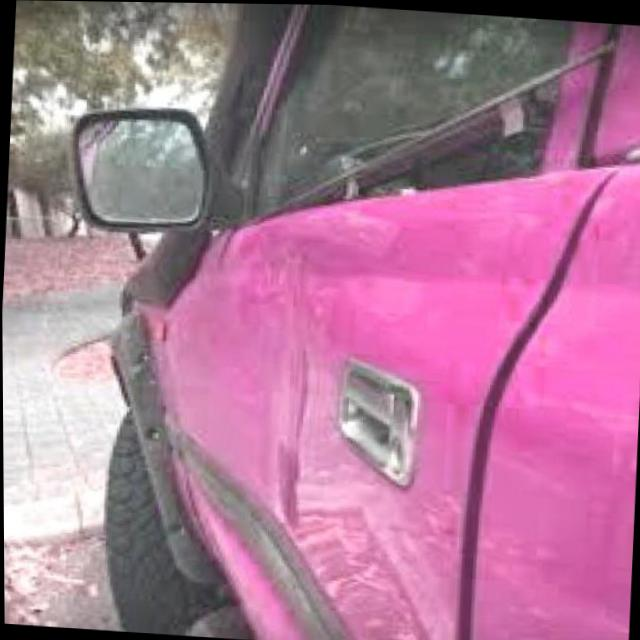Car-Damage: (221, 242, 335, 527)
